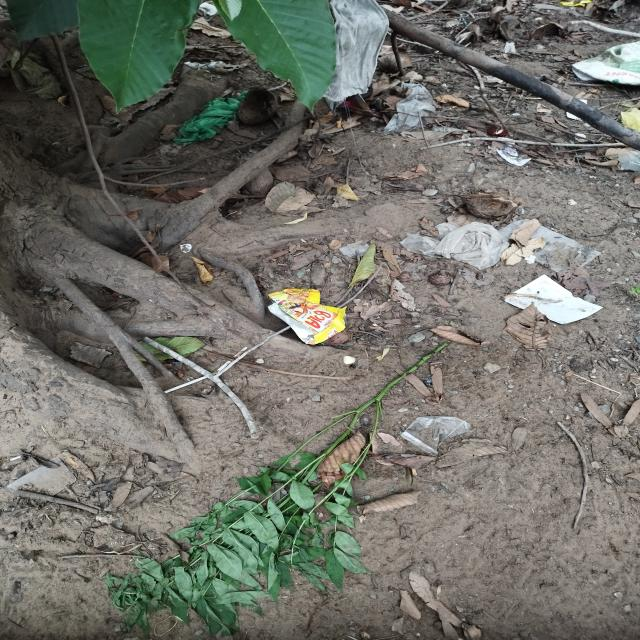bag: (491, 218, 601, 272), (400, 221, 510, 271), (400, 416, 471, 454)
paper: (504, 274, 604, 325)
snack package: (267, 288, 347, 345)
